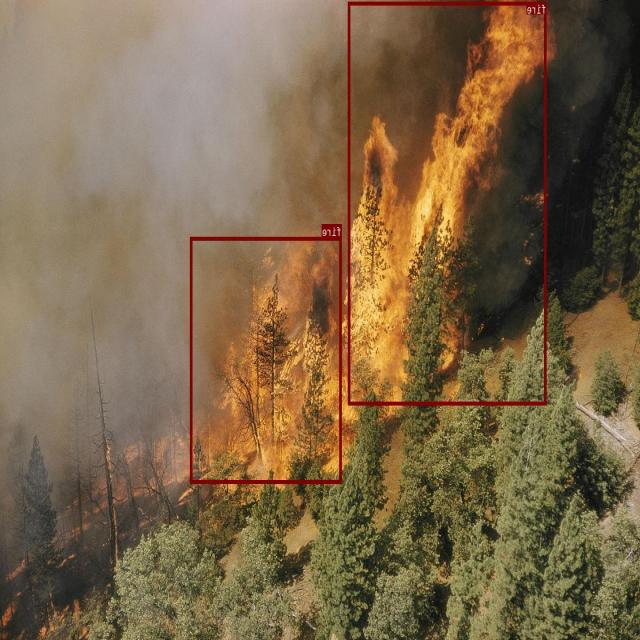fire: (349, 1, 547, 405), (191, 237, 342, 482)
